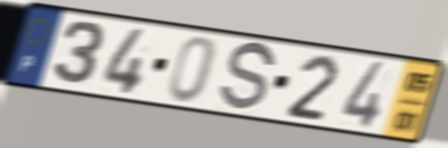0: (165, 34, 219, 105)
2: (283, 53, 339, 125)
3: (52, 19, 110, 88)
4: (340, 59, 385, 131), (101, 26, 146, 96)
S: (216, 40, 278, 115)
